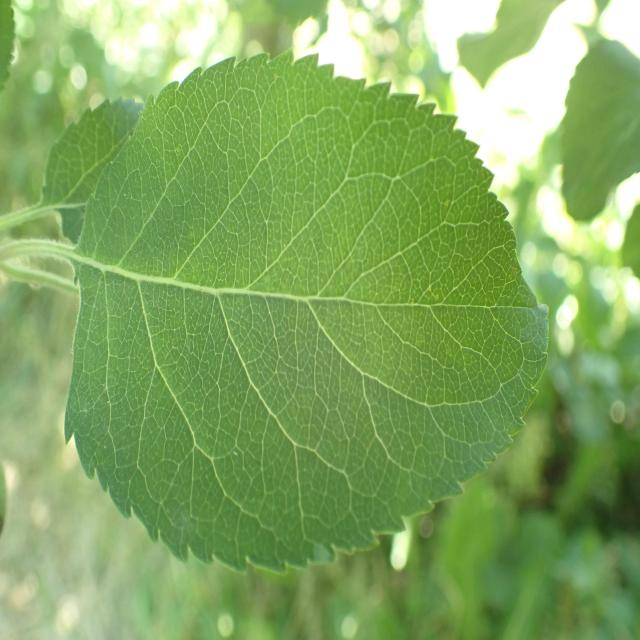healthy: (66, 48, 550, 576), (557, 35, 640, 222)
